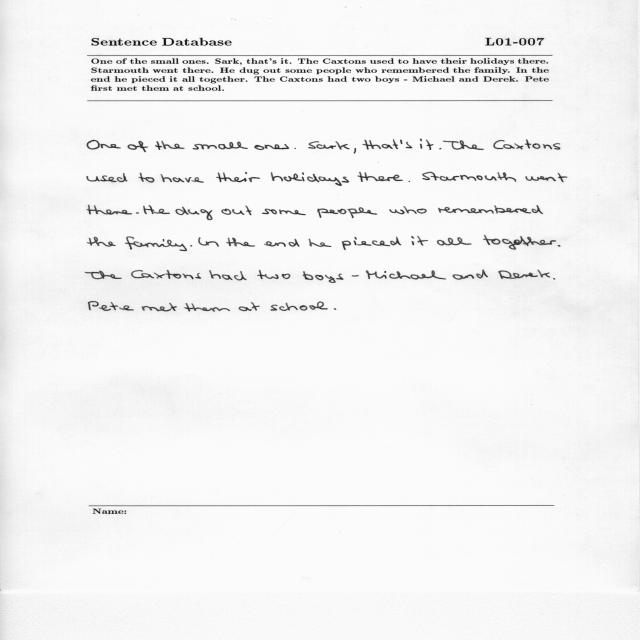word: (483, 235, 556, 250), (271, 172, 349, 186), (438, 205, 543, 214), (422, 172, 516, 182), (125, 236, 187, 251), (342, 237, 401, 250), (494, 139, 561, 150), (366, 271, 446, 280), (318, 208, 378, 219), (131, 270, 201, 279), (270, 301, 328, 311), (303, 271, 344, 283), (176, 207, 213, 220), (498, 270, 550, 279), (88, 301, 134, 311), (358, 172, 403, 182), (87, 205, 132, 215), (193, 142, 248, 150), (216, 172, 260, 182), (209, 270, 247, 281), (184, 303, 230, 312), (443, 140, 484, 150), (161, 174, 204, 183), (363, 139, 398, 150), (308, 141, 350, 150), (526, 173, 568, 182), (87, 173, 128, 182), (453, 270, 488, 280), (87, 140, 121, 150), (85, 271, 122, 280), (141, 303, 177, 312), (437, 237, 472, 246), (257, 270, 291, 279), (389, 206, 427, 214), (87, 237, 116, 247), (264, 239, 300, 247), (221, 206, 252, 215), (262, 209, 306, 215), (155, 141, 184, 150), (226, 238, 255, 247), (143, 205, 170, 214), (127, 141, 148, 152), (254, 144, 289, 150), (198, 237, 219, 247), (309, 239, 332, 247), (411, 236, 428, 246), (139, 173, 154, 183), (420, 139, 433, 150), (400, 140, 412, 149), (251, 302, 260, 311), (239, 307, 252, 312), (352, 275, 359, 277), (354, 148, 356, 154), (136, 212, 139, 214), (558, 245, 561, 247), (191, 245, 193, 247), (553, 278, 555, 280), (334, 308, 336, 310), (439, 148, 442, 149), (294, 148, 296, 149), (408, 181, 410, 182)
